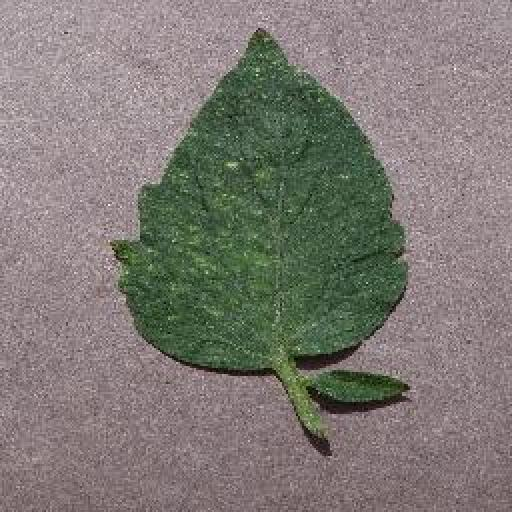Spider Mites: (108, 22, 408, 374)
